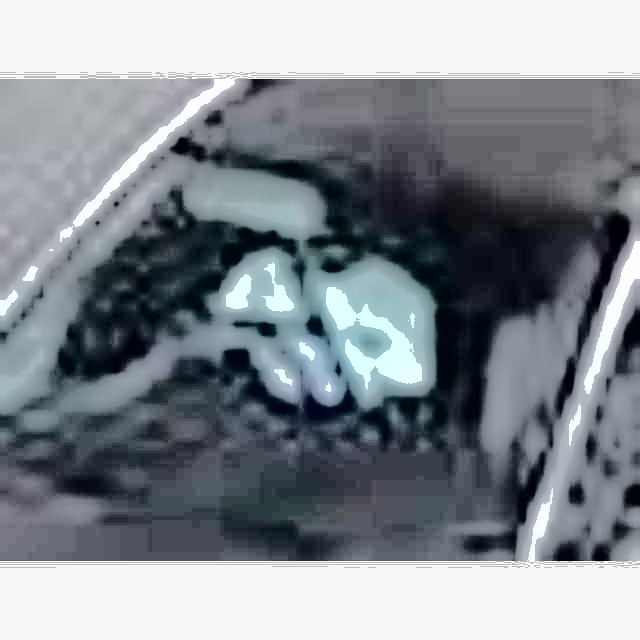pakai: (186, 172, 417, 404)
